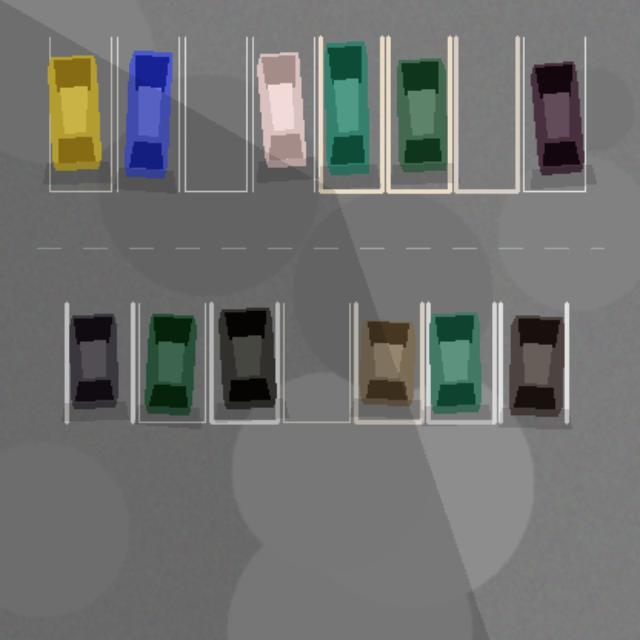space-empty: (455, 37, 517, 191), (185, 37, 246, 191), (283, 303, 349, 422)
space-occupied: (49, 37, 111, 191), (252, 37, 314, 191), (320, 37, 382, 191), (523, 37, 585, 191), (117, 37, 178, 191), (388, 37, 449, 191), (138, 303, 205, 422), (355, 303, 422, 422), (66, 303, 132, 422), (211, 303, 277, 422), (428, 303, 494, 422), (500, 303, 566, 422)
